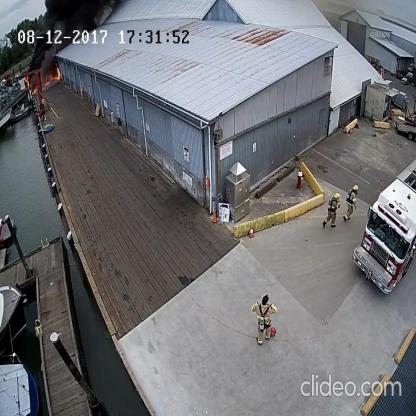fire: (42, 63, 62, 84), (23, 74, 38, 99)
